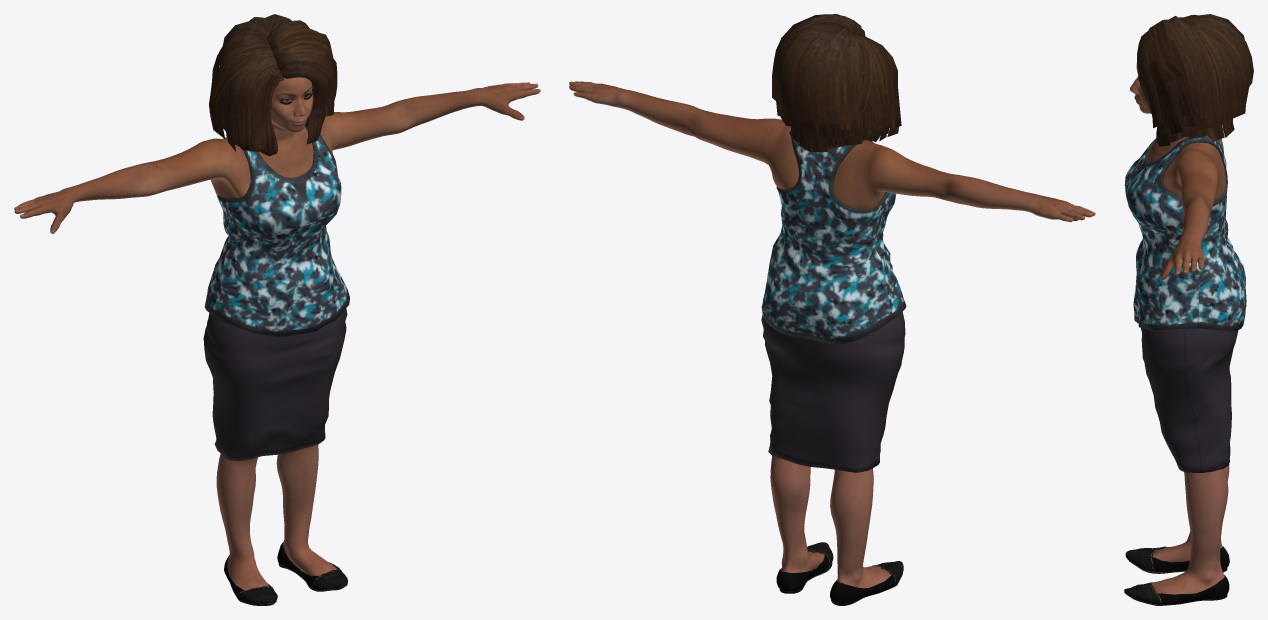
File: Female-Generic-3.obj
The picture shows the model from 3 angles, left to right: view 1: azimuth 30°, elevation 25°; view 2: azimuth 150°, elevation 25°; view 3: azimuth 270°, elevation 25°; orthographic projection.
Parts seen in each view (by area): view 1: Body, Tops, Bottoms, Hair, Shoes; view 2: Body, Tops, Bottoms, Hair, Shoes; view 3: Tops, Hair, Body, Bottoms, Shoes.
Part boxes in pixels (bbox=[...]): Body: bbox=[14, 77, 540, 590]; Tops: bbox=[204, 125, 349, 336]; Bottoms: bbox=[203, 308, 347, 460]; Hair: bbox=[209, 14, 337, 156]; Shoes: bbox=[224, 541, 347, 605]; Body: bbox=[569, 81, 1095, 588]; Tops: bbox=[762, 127, 906, 344]; Bottoms: bbox=[761, 305, 905, 472]; Hair: bbox=[772, 14, 901, 152]; Shoes: bbox=[776, 542, 903, 605]; Tops: bbox=[1124, 135, 1246, 331]; Hair: bbox=[1137, 14, 1253, 146]; Body: bbox=[1130, 63, 1229, 594]; Bottoms: bbox=[1141, 328, 1238, 472]; Shoes: bbox=[1124, 546, 1229, 605].
Bounding box in the file's own units: 169 × 174 × 36.16.
1 material, 1 textured.
